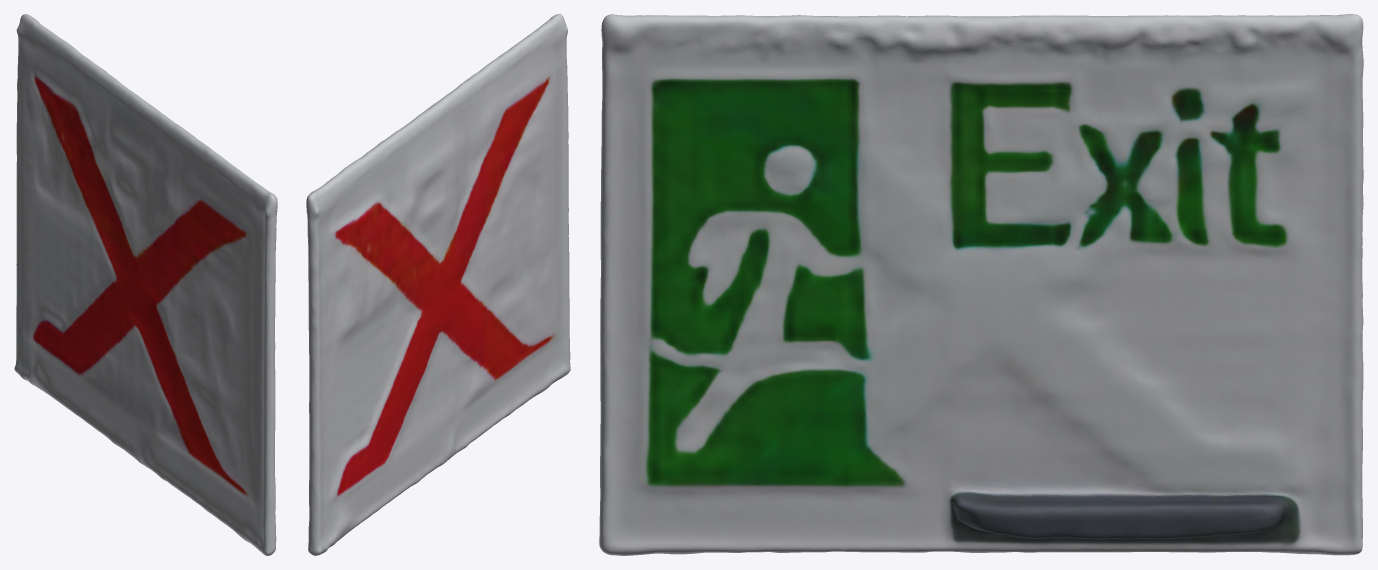
The model's file is 951713db44d2_exit_sign__3d_asset.fbx.
3 views of the same model, side by side, from view 1: azimuth 30°, elevation 25°; view 2: azimuth 150°, elevation 25°; view 3: azimuth 270°, elevation 25° (orthographic). The views are drawn at different scales.
Visible parts, largest first — view 1: high_poly; view 2: high_poly; view 3: high_poly.
Boxes of the visible parts, box(x1,y1,x2,y2) form: high_poly: box(14, 14, 277, 555); high_poly: box(306, 14, 570, 555); high_poly: box(599, 14, 1363, 555).
Size of the model in its own units: 8.5 by 78.48 by 100.
